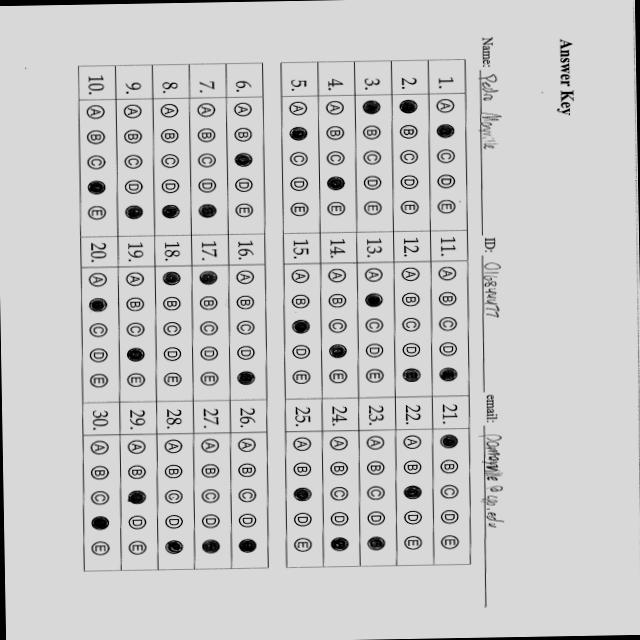EMAIL: (469, 426, 523, 609)
ID: (474, 258, 522, 394)
Name: (470, 70, 507, 238)
Q10_A_Unmarked: (84, 101, 110, 124)
Q10_B_Unmarked: (85, 127, 109, 148)
Q10_C_Unmarked: (84, 152, 110, 172)
Q10_D_Marked: (86, 178, 110, 197)
Q10_E_Unmarked: (84, 203, 110, 224)
Q11_A_Unmarked: (434, 264, 461, 283)
Q11_B_Unmarked: (435, 290, 460, 310)
Q11_C_Unmarked: (436, 314, 460, 334)
Q11_D_Unmarked: (436, 340, 460, 360)
Q11_E_Marked: (438, 366, 460, 388)
Q12_A_Unmarked: (396, 266, 424, 286)
Q12_B_Unmarked: (398, 292, 424, 312)
Q12_C_Unmarked: (398, 316, 424, 336)
Q12_D_Unmarked: (399, 342, 424, 362)
Q12_E_Marked: (400, 366, 424, 387)
Q13_A_Unmarked: (360, 264, 388, 286)
Q13_B_Marked: (362, 290, 388, 312)
Q13_C_Unmarked: (362, 314, 388, 335)
Q13_D_Unmarked: (362, 341, 390, 362)
Q13_E_Unmarked: (362, 367, 388, 386)
Q14_A_Unmarked: (324, 266, 351, 288)
Q14_B_Unmarked: (325, 292, 351, 314)
Q14_C_Unmarked: (326, 317, 348, 339)
Q14_D_Marked: (327, 340, 352, 361)
Q14_D_Unmarked: (326, 368, 352, 390)
Q15_A_Unmarked: (288, 266, 313, 286)
Q15_B_Unmarked: (288, 290, 314, 312)
Q15_C_Marked: (288, 317, 314, 338)
Q15_D_Unmarked: (290, 344, 314, 366)
Q15_E_Unmarked: (290, 370, 316, 390)
Q16_A_Unmarked: (232, 266, 260, 289)
Q16_B_Unmarked: (232, 295, 258, 315)
Q16_C_Unmarked: (232, 319, 260, 342)
Q16_D_Unmarked: (233, 344, 262, 367)
Q16_E_Marked: (233, 368, 260, 393)
Q17_A_Marked: (197, 270, 220, 288)
Q17_B_Unmarked: (197, 294, 222, 315)
Q17_C_Unmarked: (198, 320, 220, 340)
Q17_D_Unmarked: (197, 344, 223, 364)
Q17_E_Unmarked: (196, 368, 222, 388)
Q18_A_Marked: (160, 268, 187, 290)
Q18_B_Unmarked: (159, 294, 185, 314)
Q18_C_Unmarked: (158, 320, 186, 342)
Q18_D_Unmarked: (160, 344, 185, 368)
Q18_E_Unmarked: (160, 372, 187, 392)
Q19_A_Unmarked: (122, 269, 150, 291)
Q19_B_Unmarked: (121, 294, 148, 318)
Q19_C_Unmarked: (123, 322, 149, 343)
Q19_D_Marked: (122, 346, 148, 364)
Q19_E_Unmarked: (125, 372, 148, 392)
Q1_A_Unmarked: (432, 96, 458, 116)
Q1_B_Marked: (432, 121, 459, 142)
Q1_C_Unmarked: (434, 145, 462, 166)
Q1_D_Unmarked: (434, 171, 459, 193)
Q1_E_Unmarked: (434, 196, 461, 218)
Q20_A_Unmarked: (85, 269, 112, 290)
Q20_B_Marked: (83, 296, 110, 317)
Q20_C_Unmarked: (82, 319, 110, 343)
Q20_D_Unmarked: (84, 347, 111, 366)
Q20_E_Unmarked: (86, 373, 112, 396)
Q21_A_Marked: (436, 431, 462, 452)
Q21_B_Unmarked: (434, 458, 462, 479)
Q21_C_Unmarked: (436, 481, 462, 501)
Q21_D_Unmarked: (436, 508, 460, 529)
Q21_E_Unmarked: (434, 532, 464, 553)
Q22_A_Unmarked: (398, 433, 423, 454)
Q22_B_Unmarked: (398, 458, 423, 479)
Q22_C_Marked: (398, 482, 424, 502)
Q22_D_Unmarked: (400, 505, 428, 527)
Q22_E_Unmarked: (398, 532, 428, 556)
Q23_A_Unmarked: (359, 430, 392, 452)
Q23_B_Unmarked: (360, 457, 393, 480)
Q23_C_Unmarked: (362, 484, 389, 506)
Q23_D_Unmarked: (361, 507, 393, 532)
Q23_E_Marked: (360, 533, 391, 555)
Q24_A_Unmarked: (324, 432, 354, 454)
Q24_B_Unmarked: (325, 458, 354, 479)
Q24_C_Unmarked: (324, 482, 354, 505)
Q24_D_Unmarked: (324, 508, 352, 530)
Q24_E_Marked: (327, 534, 354, 556)
Q25_A_Unmarked: (284, 432, 316, 455)
Q25_B_Unmarked: (288, 458, 318, 480)
Q25_C_Marked: (288, 482, 318, 508)
Q25_D_Unmarked: (289, 510, 319, 532)
Q25_E_Unmarked: (289, 536, 318, 556)
Q26_A_Unmarked: (231, 434, 260, 454)
Q26_B_Unmarked: (232, 460, 262, 480)
Q26_C_Unmarked: (232, 484, 262, 506)
Q26_D_Unmarked: (231, 511, 264, 533)
Q26_E_Marked: (233, 536, 263, 560)
Q27_A_Unmarked: (196, 437, 223, 457)
Q27_B_Unmarked: (195, 461, 222, 482)
Q27_C_Unmarked: (195, 488, 224, 509)
Q27_D_Unmarked: (196, 512, 226, 534)
Q27_E_Marked: (198, 536, 228, 559)
Q28_A_Unmarked: (157, 436, 186, 456)
Q28_B_Unmarked: (160, 463, 186, 485)
Q28_C_Unmarked: (160, 488, 184, 508)
Q28_D_Unmarked: (159, 511, 187, 534)
Q28_E_Marked: (160, 538, 190, 559)
Q29_A_Unmarked: (122, 438, 150, 457)
Q29_B_Unmarked: (121, 462, 150, 484)
Q29_C_Marked: (123, 486, 152, 507)
Q29_D_Unmarked: (122, 514, 152, 534)
Q29_E_Unmarked: (124, 537, 152, 559)
Q2_A_Marked: (396, 95, 422, 116)
Q2_B_Unmarked: (394, 121, 420, 142)
Q2_C_Unmarked: (394, 146, 424, 170)
Q2_D_Unmarked: (394, 172, 424, 194)
Q2_E_Unmarked: (396, 198, 424, 221)
Q30_A_Unmarked: (85, 438, 114, 461)
Q30_B_Unmarked: (84, 464, 115, 486)
Q30_C_Unmarked: (84, 490, 114, 510)
Q30_D_Marked: (84, 513, 117, 537)
Q30_E_Unmarked: (86, 541, 115, 561)
Q3_A_Marked: (359, 98, 385, 120)
Q3_B_Unmarked: (360, 124, 384, 146)
Q3_C_Unmarked: (358, 148, 386, 169)
Q3_D_Unmarked: (360, 173, 383, 196)
Q3_E_Unmarked: (362, 200, 384, 220)
Q4_A_Unmarked: (322, 97, 349, 117)
Q4_B_Unmarked: (322, 122, 348, 143)
Q4_C_Unmarked: (324, 148, 352, 170)
Q4_D_Marked: (323, 172, 350, 195)
Q4_E_Unmarked: (324, 198, 350, 218)
Q5_A_Unmarked: (286, 100, 312, 124)
Q5_B_Marked: (286, 124, 310, 145)
Q5_C_Unmarked: (286, 150, 311, 170)
Q5_D_Unmarked: (285, 175, 311, 196)
Q5_E_Unmarked: (285, 199, 314, 223)
Q6_A_Unmarked: (228, 99, 258, 119)
Q6_B_Unmarked: (228, 124, 256, 145)
Q6_C_Marked: (229, 149, 259, 170)
Q6_D_Unmarked: (232, 176, 260, 196)
Q6_E_Unmarked: (231, 202, 257, 224)
Q7_A_Unmarked: (195, 100, 218, 118)
Q7_B_Unmarked: (195, 124, 218, 144)
Q7_C_Unmarked: (195, 150, 220, 170)
Q7_D_Unmarked: (195, 177, 221, 196)
Q7_E_Marked: (194, 200, 222, 222)
Q8_A_Unmarked: (157, 100, 186, 120)
Q8_B_Unmarked: (156, 126, 187, 146)
Q8_C_Unmarked: (157, 151, 184, 171)
Q8_D_Unmarked: (158, 177, 184, 199)
Q8_E_Marked: (159, 202, 185, 223)
Q9_A_Unmarked: (120, 102, 146, 122)
Q9_B_Unmarked: (120, 124, 146, 146)
Q9_C_Unmarked: (122, 151, 146, 171)
Q9_D_Unmarked: (122, 176, 146, 197)
Q9_E_Marked: (120, 202, 146, 226)
